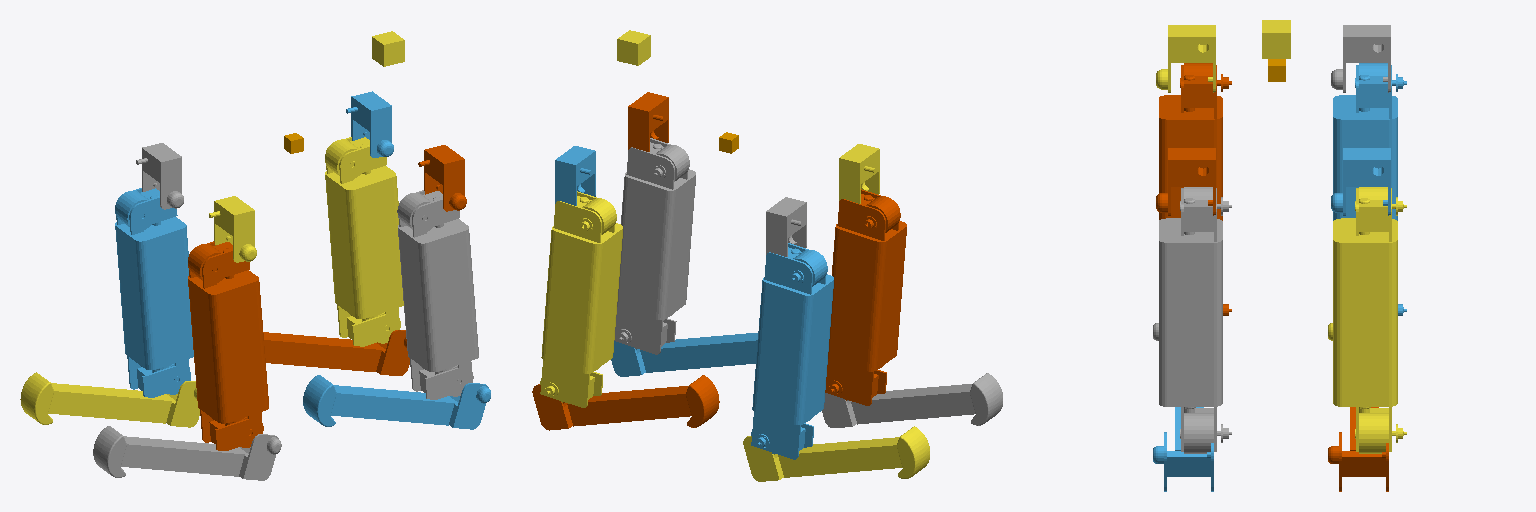
--- Render facts (derived) ---
3 views of the same robot in one strip: view 1: azimuth 30°, elevation 25°; view 2: azimuth 150°, elevation 25°; view 3: azimuth 270°, elevation 25° (orthographic).
Model aida with 33 links and 32 joints (20 revolute, 12 fixed), rooted at base_link, posed joints at zero except 4 at the middle of their limits (left_front_calf_hinge = 1.88, left_rear_calf_hinge = 1.88, right_front_calf_hinge = 1.88, right_rear_calf_hinge = 1.88).
Visible links, largest first — view 1: right_rear_thigh, right_front_thigh, left_rear_thigh, left_front_thigh, right_rear_calf, right_front_calf, left_rear_calf, left_front_calf, right_front_shoulder, right_rear_shoulder, left_front_shoulder, left_rear_shoulder (+1 smaller); view 2: left_rear_thigh, left_front_thigh, right_front_thigh, right_rear_thigh, left_rear_calf, left_front_calf, right_rear_calf, right_front_calf, left_front_shoulder, left_rear_shoulder, right_front_shoulder, right_rear_shoulder (+1 smaller); view 3: left_front_thigh, right_front_thigh, left_rear_thigh, right_rear_thigh, left_front_shoulder, right_front_shoulder, left_rear_shoulder, right_rear_shoulder, left_front_calf, right_front_calf, base_laser.
Link boxes in pixels (x1,y1,x2,y2): right_rear_thigh: (188, 241, 268, 450); right_front_thigh: (397, 190, 478, 399); left_rear_thigh: (115, 188, 193, 397); left_front_thigh: (325, 137, 403, 346); right_rear_calf: (93, 426, 281, 480); right_front_calf: (303, 375, 490, 429); left_rear_calf: (20, 372, 199, 427); left_front_calf: (263, 330, 409, 375); right_front_shoulder: (418, 145, 466, 211); right_rear_shoulder: (209, 196, 256, 262); left_front_shoulder: (346, 91, 393, 157); left_rear_shoulder: (136, 143, 183, 209); left_rear_thigh: (751, 243, 833, 459); left_front_thigh: (540, 191, 622, 407); right_front_thigh: (614, 138, 695, 354); right_rear_thigh: (825, 189, 906, 405); left_rear_calf: (743, 426, 929, 481); left_front_calf: (532, 375, 719, 430); right_rear_calf: (822, 373, 1002, 427); right_front_calf: (611, 333, 757, 376); left_front_shoulder: (555, 146, 595, 205); left_rear_shoulder: (766, 197, 806, 256); right_front_shoulder: (628, 92, 668, 151); right_rear_shoulder: (839, 144, 879, 203); left_front_thigh: (1333, 187, 1406, 453); right_front_thigh: (1159, 187, 1231, 453); left_rear_thigh: (1333, 63, 1406, 315); right_rear_thigh: (1159, 63, 1231, 315); left_front_shoulder: (1331, 148, 1390, 215); right_front_shoulder: (1156, 148, 1215, 215); left_rear_shoulder: (1331, 25, 1390, 92); right_rear_shoulder: (1156, 25, 1215, 92); left_front_calf: (1328, 407, 1388, 491); right_front_calf: (1153, 407, 1213, 491); base_laser: (1262, 20, 1290, 58).
Bounding box of the posed robot: 0.9024 × 0.437 × 0.8348 m (x, y, z).
12 mesh visuals loaded from 4 distinct referenced files (3 binary STL); not drawn: 1 (reference not matched to a file when rendering).

The robot description file, URDF, robot "aida":
<?xml version="1.0" ?>
<!-- =================================================================================== -->
<!-- |    This document was autogenerated by xacro from robots/aida.urdf.xacro         | -->
<!-- |    EDITING THIS FILE BY HAND IS NOT RECOMMENDED                                 | -->
<!-- =================================================================================== -->
<robot name="aida" xmlns:xacro="http://www.ros.org/wiki/xacro">
  <gazebo reference="left_rear_calf">
    <material>Gazebo/Orange</material>
  </gazebo>
  <gazebo reference="right_rear_calf">
    <material>Gazebo/Orange</material>
  </gazebo>
  <gazebo reference="left_front_calf">
    <material>Gazebo/Orange</material>
  </gazebo>
  <gazebo reference="right_front_calf">
    <material>Gazebo/Orange</material>
  </gazebo>
  <gazebo reference="left_rear_shoulder">
    <material>Gazebo/Orange</material>
  </gazebo>
  <gazebo reference="right_rear_shoulder">
    <material>Gazebo/Orange</material>
  </gazebo>
  <gazebo reference="left_front_shoulder">
    <material>Gazebo/Orange</material>
  </gazebo>
  <gazebo reference="right_front_shoulder">
    <material>Gazebo/Orange</material>
  </gazebo>
  <gazebo reference="head">
    <material>Gazebo/Red</material>
  </gazebo>
  <gazebo>
    <plugin filename="libgazebo_ros_control.so" name="gazebo_ros_control">
      <robotNamespace>/aida</robotNamespace>
    </plugin>
  </gazebo>
  <!-- Sensor defintion ( TODO move to own file) -->
  <gazebo reference="right_rear_calf">
    <sensor name="right_rear_bumper" type="contact">
      <always_on>true</always_on>
      <update_rate>20.0</update_rate>
      <contact>
        <!-- weird gazebo naming convention  -->
        <collision>right_rear_calf_fixed_joint_lump__right_rear_foot_collision_1</collision>
      </contact>
      <plugin filename="libgazebo_ros_bumper.so" name="right_rear_foot_bumper_controller">
        <alwaysOn>true</alwaysOn>
        <updateRate>20.0</updateRate>
        <bumperTopicName>aida/bumper_right_rear_foot</bumperTopicName>
        <frameName>right_rear_foot</frameName>
      </plugin>
    </sensor>
  </gazebo>
  <gazebo reference="right_front_calf">
    <sensor name="right_front_bumper" type="contact">
      <always_on>true</always_on>
      <update_rate>20.0</update_rate>
      <contact>
        <!-- weird gazebo naming convention  -->
        <collision>right_front_calf_fixed_joint_lump__right_front_foot_collision_1</collision>
      </contact>
      <plugin filename="libgazebo_ros_bumper.so" name="right_front_foot_bumper_controller">
        <alwaysOn>true</alwaysOn>
        <updateRate>20.0</updateRate>
        <bumperTopicName>aida/bumper_right_front_foot</bumperTopicName>
        <frameName>right_front_foot</frameName>
      </plugin>
    </sensor>
  </gazebo>
  <gazebo reference="left_rear_calf">
    <sensor name="left_rear_bumper" type="contact">
      <always_on>true</always_on>
      <update_rate>20.0</update_rate>
      <contact>
        <!-- weird gazebo naming convention  -->
        <collision>left_rear_calf_fixed_joint_lump__left_rear_foot_collision_1</collision>
      </contact>
      <plugin filename="libgazebo_ros_bumper.so" name="left_rear_foot_bumper_controller">
        <alwaysOn>true</alwaysOn>
        <updateRate>20.0</updateRate>
        <bumperTopicName>aida/bumper_left_rear_foot</bumperTopicName>
        <frameName>left_rear_foot</frameName>
      </plugin>
    </sensor>
  </gazebo>
  <gazebo reference="left_front_calf">
    <sensor name="left_front_bumper" type="contact">
      <always_on>true</always_on>
      <update_rate>20.0</update_rate>
      <contact>
        <!-- weird gazebo naming convention  -->
        <collision>left_front_calf_fixed_joint_lump__left_front_foot_collision_1</collision>
      </contact>
      <plugin filename="libgazebo_ros_bumper.so" name="left_front_foot_bumper_controller">
        <alwaysOn>true</alwaysOn>
        <updateRate>20.0</updateRate>
        <bumperTopicName>aida/bumper_left_front_foot</bumperTopicName>
        <frameName>left_front_foot</frameName>
      </plugin>
    </sensor>
  </gazebo>
  <gazebo reference="right_rear_foot">
    <!-- kp and kd for rubber -->
    <kp>1000000.0</kp>
    <kd>100.0</kd>
    <mu1>1.5</mu1>
    <mu2>1.5</mu2>
    <fdir1>1 0 0</fdir1>
    <maxVel>1.0</maxVel>
    <minDepth>0.00</minDepth>
  </gazebo>
  <gazebo reference="right_front_foot">
    <!-- kp and kd for rubber -->
    <kp>1000000.0</kp>
    <kd>100.0</kd>
    <mu1>1.5</mu1>
    <mu2>1.5</mu2>
    <fdir1>1 0 0</fdir1>
    <maxVel>1.0</maxVel>
    <minDepth>0.00</minDepth>
  </gazebo>
  <gazebo reference="left_rear_foot">
    <!-- kp and kd for rubber -->
    <kp>1000000.0</kp>
    <kd>100.0</kd>
    <mu1>1.5</mu1>
    <mu2>1.5</mu2>
    <fdir1>1 0 0</fdir1>
    <maxVel>1.0</maxVel>
    <minDepth>0.00</minDepth>
  </gazebo>
  <gazebo reference="left_front_foot">
    <!-- kp and kd for rubber -->
    <kp>1000000.0</kp>
    <kd>100.0</kd>
    <mu1>1.5</mu1>
    <mu2>1.5</mu2>
    <fdir1>1 0 0</fdir1>
    <maxVel>1.0</maxVel>
    <minDepth>0.00</minDepth>
  </gazebo>
  <!--test_hinge lr="left" fr="front"/>
 <xacro:macro name="test_hinge" params="lr fr">
	<gazebo reference="aida">
        <plugin name="encoder_plugin" filename="libencoder_sensor_plugin.so"/>
    </gazebo>

 </xacro:macro>
-->
  <!-- Distance between legs left and right-->
  <!--Leg -->
  <!-- mass of the chassis -->
  <!-- mass of the shoulder  -->
  <!-- -->
  <!-- mass of the calf-->
  <!-- mass of the foot-->
  <!-- TODO add angles limits -->
  <!-- avoid collisions using a buffer, disregard once proper design. -->
  <link name="chassis">
    <collision>
      <origin rpy="0 0 0" xyz="0 0 0"/>
      <geometry>
        <box size="0.6 0.2 0.2"/>
      </geometry>
    </collision>
    <visual>
      <origin rpy="0 0 0" xyz="0 0 0"/>
      <geometry>
        <mesh filename="meshes/walking_base_v0/chassis.stl"/>
      </geometry>
    </visual>
    <inertial>
      <origin rpy="0 0 0" xyz="0 0 0"/>
      <mass value="10"/>
      <inertia ixx="0.0666666666667" ixy="0" ixz="0" iyy="0.333333333333" iyz="0" izz="0.333333333333"/>
    </inertial>
  </link>
  <!-- create the shoulder -->
  <!-- link name="${lr}_${fr}_shoulder_spring"> 
    <inertial> <origin xyz="0 0 0" rpy="0 0 0"/> <mass value="1"/> <inertia ixx="1.0" ixy="0.0" ixz="0.0" iyy="1.0" iyz="0.0" izz="1.0"/> </inertial>
    </link-->
  <link name="left_front_shoulder">
    <collision>
      <origin rpy="0 0 0" xyz="0 0 0"/>
      <geometry>
        <box size="0.1 0.1 0.1"/>
      </geometry>
    </collision>
    <visual>
      <origin rpy="0 1.570795 0" xyz="0 0 0"/>
      <geometry>
        <mesh filename="meshes/walking_base_v0/shoulder.stl">
                </mesh>
      </geometry>
      <material name="orange"/>
    </visual>
    <inertial>
      <origin rpy="0 0 0" xyz="0 0 0"/>
      <mass value="0.5"/>
      <inertia ixx="0.000833333333333" ixy="0" ixz="0" iyy="0.000833333333333" iyz="0" izz="0.000833333333333"/>
    </inertial>
  </link>
  <!-- create the thigh -->
  <link name="left_front_thigh_spring">
    <!-- elastic joint -->
    <inertial>
      <origin rpy="0 0 0" xyz="0 0 0"/>
      <mass value="1"/>
      <inertia ixx="1.0" ixy="0.0" ixz="0.0" iyy="1.0" iyz="0.0" izz="1.0"/>
    </inertial>
  </link>
  <link name="left_front_thigh">
    <collision>
      <origin rpy="0 1.570795 0" xyz="0.2 0 0"/>
      <geometry>
        <cylinder length="0.4" radius="0.04"/>
      </geometry>
    </collision>
    <visual>
      <origin rpy="0 1.570795 0" xyz="0 0 0"/>
      <geometry>
        <mesh filename="meshes/walking_base_v0/upper_leg.stl">
                </mesh>
      </geometry>
      <material name="orange"/>
    </visual>
    <inertial>
      <origin rpy="0 1.570795 0" xyz="0.2 0 0"/>
      <mass value="1.5"/>
      <inertia ixx="0.0206" ixy="0" ixz="0" iyy="0.0206" iyz="0" izz="0.0012"/>
    </inertial>
  </link>
  <!-- create the calf -->
  <link name="left_front_calf_spring">
    <inertial>
      <origin rpy="0 0 0" xyz="0 0 0"/>
      <mass value="1"/>
      <inertia ixx="1.0" ixy="0.0" ixz="0.0" iyy="1.0" iyz="0.0" izz="1.0"/>
    </inertial>
  </link>
  <link name="left_front_calf">
    <collision>
      <origin rpy="0 1.570795 0" xyz="0.15 0 0"/>
      <geometry>
        <cylinder length="0.3" radius="0.02"/>
      </geometry>
    </collision>
    <visual>
      <origin rpy="0 1.570795 0" xyz="0.15 0 0"/>
      <geometry>
        <mesh filename="meshes/walking_base_v0/lower_leg.stl">
                </mesh>
      </geometry>
    </visual>
    <inertial>
      <origin rpy="0 1.570795 0" xyz="0.15 0 0"/>
      <mass value="0.2"/>
      <inertia ixx="0.00152" ixy="0" ixz="0" iyy="0.00152" iyz="0" izz="4e-05"/>
    </inertial>
  </link>
  <!-- create the foot -->
  <link name="left_front_foot">
    <collision>
      <origin rpy="0 0 0" xyz="0 0 0"/>
      <geometry>
        <sphere radius="0.05"/>
      </geometry>
      <surface>
        <friction>
          <ode>
            <mu>1</mu>
            <mu2>1</mu2>
            <slip1>1.0</slip1>
            <slip2>1.0</slip2>
          </ode>
        </friction>
      </surface>
    </collision>
    <inertial>
      <origin rpy="0 0 0" xyz="0 0 0"/>
      <mass value="0.1"/>
      <inertia ixx="0.0001" ixy="0" ixz="0" iyy="0.0001" iyz="0" izz="0.0001"/>
    </inertial>
  </link>
  <!-- hinges -->
  <!-- A3 -->
  <!--joint name="${lr}_${fr}_elastic_joint_shoulder" type="revolute">
        <parent link="${lr}_${fr}_shoulder_spring"/>
        <child link="${lr}_${fr}_shoulder"/>
        <axis xyz="1 0 0" rpy="0 0 0">
        <dynamics>
            <spring_stiffness>1000.0</spring_stiffness>
            <spring_reference>0</spring_reference>
        </dynamics>
        </axis>
        <limit effort="1000" velocity="100" upper="${A1_upper_rad}" lower="${A1_lower_rad}"/> 
    </joint-->
  <joint name="left_front_shoulder_hinge" type="revolute">
    <parent link="chassis"/>
    <child link="left_front_shoulder"/>
    <origin rpy="0 0 0" xyz="0.25 0.15 0"/>
    <axis rpy="0 0 0" xyz="1 0 0"/>
    <limit effort="1000" lower="-0.174532777778" upper="0.7853975" velocity="100"/>
    <joint_properties damping="0.0" friction="0.0"/>
  </joint>
  <transmission name="left_front_shoulder_trans">
    <type>transmission_interface/SimpleTransmission</type>
    <joint name="left_front_shoulder_hinge">
      <hardwareInterface>hardware_interface/EffortJointInterface</hardwareInterface>
    </joint>
    <actuator name="left_front_shoulder_motor">
      <hardwareInterface>hardware_interface/EffortJointInterface</hardwareInterface>
      <mechanicalReduction>100</mechanicalReduction>
    </actuator>
  </transmission>
  <!-- A2 -->
  <joint name="left_front_thigh_hinge" type="revolute">
    <parent link="left_front_shoulder"/>
    <child link="left_front_thigh_spring"/>
    <origin rpy="0 1.570795 0" xyz="0 0 -0.05 "/>
    <axis rpy="0 0 0" xyz="0 1 0"/>
    <limit effort="1000" lower="-0.7853975" upper="0.7853975" velocity="100"/>
    <joint_properties damping="0.0" friction="0.0"/>
  </joint>
  <joint name="left_front_elastic_joint_thigh" type="revolute">
    <parent link="left_front_thigh_spring"/>
    <child link="left_front_thigh"/>
    <axis rpy="0 0 0" xyz="0 0 1">
      <dynamics>
        <spring_stiffness>10.0</spring_stiffness>
        <spring_reference>0</spring_reference>
      </dynamics>
    </axis>
    <limit effort="1000" lower="-0.0349065555556" upper="0.0349065555556" velocity="100"/>
  </joint>
  <transmission name="left_front_thigh_trans">
    <type>transmission_interface/SimpleTransmission</type>
    <joint name="left_front_thigh_hinge">
      <hardwareInterface>hardware_interface/EffortJointInterface</hardwareInterface>
    </joint>
    <actuator name="left_front_thigh_motor">
      <hardwareInterface>hardware_interface/EffortJointInterface</hardwareInterface>
      <mechanicalReduction>100</mechanicalReduction>
    </actuator>
  </transmission>
  <!-- A1 -->
  <joint name="left_front_calf_hinge" type="revolute">
    <parent link="left_front_thigh"/>
    <child link="left_front_calf_spring"/>
    <origin rpy="0 0 0" xyz="0.4 0 0"/>
    <axis rpy="0 0 0" xyz="0 1 0"/>
    <limit effort="1000" lower="0.7853975" upper="2.96705722222" velocity="100"/>
    <joint_properties damping="0.0" friction="0.0"/>
  </joint>
  <joint name="left_front_elastic_joint_calf" type="revolute">
    <parent link="left_front_calf_spring"/>
    <child link="left_front_calf"/>
    <axis rpy="0 0 0" xyz="0 0 1">
      <dynamics>
        <spring_stiffness>10.0</spring_stiffness>
        <spring_reference>0</spring_reference>
      </dynamics>
    </axis>
    <limit effort="1000" lower="-0.0349065555556" upper="0.0349065555556" velocity="100"/>
  </joint>
  <transmission name="left_front_calf_trans">
    <type>transmission_interface/SimpleTransmission</type>
    <joint name="left_front_calf_hinge">
      <hardwareInterface>hardware_interface/EffortJointInterface</hardwareInterface>
    </joint>
    <actuator name="left_front_calf_motor">
      <hardwareInterface>hardware_interface/EffortJointInterface</hardwareInterface>
      <mechanicalReduction>100</mechanicalReduction>
    </actuator>
  </transmission>
  <joint name="left_front_foot_hinge" type="fixed">
    <parent link="left_front_calf"/>
    <child link="left_front_foot"/>
    <origin rpy="0 0 0" xyz="0.3 0 0"/>
  </joint>
  <!-- close bracket -->
  <!-- create the shoulder -->
  <!-- link name="${lr}_${fr}_shoulder_spring"> 
    <inertial> <origin xyz="0 0 0" rpy="0 0 0"/> <mass value="1"/> <inertia ixx="1.0" ixy="0.0" ixz="0.0" iyy="1.0" iyz="0.0" izz="1.0"/> </inertial>
    </link-->
  <link name="left_rear_shoulder">
    <collision>
      <origin rpy="0 0 0" xyz="0 0 0"/>
      <geometry>
        <box size="0.1 0.1 0.1"/>
      </geometry>
    </collision>
    <visual>
      <origin rpy="0 1.570795 0" xyz="0 0 0"/>
      <geometry>
        <mesh filename="meshes/walking_base_v0/shoulder.stl">
                </mesh>
      </geometry>
      <material name="orange"/>
    </visual>
    <inertial>
      <origin rpy="0 0 0" xyz="0 0 0"/>
      <mass value="0.5"/>
      <inertia ixx="0.000833333333333" ixy="0" ixz="0" iyy="0.000833333333333" iyz="0" izz="0.000833333333333"/>
    </inertial>
  </link>
  <!-- create the thigh -->
  <link name="left_rear_thigh_spring">
    <!-- elastic joint -->
    <inertial>
      <origin rpy="0 0 0" xyz="0 0 0"/>
      <mass value="1"/>
      <inertia ixx="1.0" ixy="0.0" ixz="0.0" iyy="1.0" iyz="0.0" izz="1.0"/>
    </inertial>
  </link>
  <link name="left_rear_thigh">
    <collision>
      <origin rpy="0 1.570795 0" xyz="0.2 0 0"/>
      <geometry>
        <cylinder length="0.4" radius="0.04"/>
      </geometry>
    </collision>
    <visual>
      <origin rpy="0 1.570795 0" xyz="0 0 0"/>
      <geometry>
        <mesh filename="meshes/walking_base_v0/upper_leg.stl">
                </mesh>
      </geometry>
      <material name="orange"/>
    </visual>
    <inertial>
      <origin rpy="0 1.570795 0" xyz="0.2 0 0"/>
      <mass value="1.5"/>
      <inertia ixx="0.0206" ixy="0" ixz="0" iyy="0.0206" iyz="0" izz="0.0012"/>
    </inertial>
  </link>
  <!-- create the calf -->
  <link name="left_rear_calf_spring">
    <inertial>
      <origin rpy="0 0 0" xyz="0 0 0"/>
      <mass value="1"/>
      <inertia ixx="1.0" ixy="0.0" ixz="0.0" iyy="1.0" iyz="0.0" izz="1.0"/>
    </inertial>
  </link>
  <link name="left_rear_calf">
    <collision>
      <origin rpy="0 1.570795 0" xyz="0.15 0 0"/>
      <geometry>
        <cylinder length="0.3" radius="0.02"/>
      </geometry>
    </collision>
    <visual>
      <origin rpy="0 1.570795 0" xyz="0.15 0 0"/>
      <geometry>
        <mesh filename="meshes/walking_base_v0/lower_leg.stl">
                </mesh>
      </geometry>
    </visual>
    <inertial>
      <origin rpy="0 1.570795 0" xyz="0.15 0 0"/>
      <mass value="0.2"/>
      <inertia ixx="0.00152" ixy="0" ixz="0" iyy="0.00152" iyz="0" izz="4e-05"/>
    </inertial>
  </link>
  <!-- create the foot -->
  <link name="left_rear_foot">
    <collision>
      <origin rpy="0 0 0" xyz="0 0 0"/>
      <geometry>
        <sphere radius="0.05"/>
      </geometry>
      <surface>
        <friction>
          <ode>
            <mu>1</mu>
            <mu2>1</mu2>
            <slip1>1.0</slip1>
            <slip2>1.0</slip2>
          </ode>
        </friction>
      </surface>
    </collision>
    <inertial>
      <origin rpy="0 0 0" xyz="0 0 0"/>
      <mass value="0.1"/>
      <inertia ixx="0.0001" ixy="0" ixz="0" iyy="0.0001" iyz="0" izz="0.0001"/>
    </inertial>
  </link>
  <!-- hinges -->
  <!-- A3 -->
  <!--joint name="${lr}_${fr}_elastic_joint_shoulder" type="revolute">
        <parent link="${lr}_${fr}_shoulder_spring"/>
        <child link="${lr}_${fr}_shoulder"/>
        <axis xyz="1 0 0" rpy="0 0 0">
        <dynamics>
            <spring_stiffness>1000.0</spring_stiffness>
            <spring_reference>0</spring_reference>
        </dynamics>
        </axis>
        <limit effort="1000" velocity="100" upper="${A1_upper_rad}" lower="${A1_lower_rad}"/> 
    </joint-->
  <joint name="left_rear_shoulder_hinge" type="revolute">
    <parent link="chassis"/>
    <child link="left_rear_shoulder"/>
    <origin rpy="0 0 0" xyz="-0.25 0.15 0"/>
    <axis rpy="0 0 0" xyz="1 0 0"/>
    <limit effort="1000" lower="-0.174532777778" upper="0.7853975" velocity="100"/>
    <joint_properties damping="0.0" friction="0.0"/>
  </joint>
  <transmission name="left_rear_shoulder_trans">
    <type>transmission_interface/SimpleTransmission</type>
    <joint name="left_rear_shoulder_hinge">
      <hardwareInterface>hardware_interface/EffortJointInterface</hardwareInterface>
    </joint>
    <actuator name="left_rear_shoulder_motor">
      <hardwareInterface>hardware_interface/EffortJointInterface</hardwareInterface>
      <mechanicalReduction>100</mechanicalReduction>
    </actuator>
  </transmission>
  <!-- A2 -->
  <joint name="left_rear_thigh_hinge" type="revolute">
    <parent link="left_rear_shoulder"/>
    <child link="left_rear_thigh_spring"/>
    <origin rpy="0 1.570795 0" xyz="0 0 -0.05 "/>
    <axis rpy="0 0 0" xyz="0 1 0"/>
    <limit effort="1000" lower="-0.7853975" upper="0.7853975" velocity="100"/>
    <joint_properties damping="0.0" friction="0.0"/>
  </joint>
  <joint name="left_rear_elastic_joint_thigh" type="revolute">
    <parent link="left_rear_thigh_spring"/>
    <child link="left_rear_thigh"/>
    <axis rpy="0 0 0" xyz="0 0 1">
      <dynamics>
        <spring_stiffness>10.0</spring_stiffness>
        <spring_reference>0</spring_reference>
      </dynamics>
    </axis>
    <limit effort="1000" lower="-0.0349065555556" upper="0.0349065555556" velocity="100"/>
  </joint>
  <transmission name="left_rear_thigh_trans">
    <type>transmission_interface/SimpleTransmission</type>
    <joint name="left_rear_thigh_hinge">
      <hardwareInterface>hardware_interface/EffortJointInterface</hardwareInterface>
    </joint>
    <actuator name="left_rear_thigh_motor">
      <hardwareInterface>hardware_interface/EffortJointInterface</hardwareInterface>
      <mechanicalReduction>100</mechanicalReduction>
    </actuator>
  </transmission>
  <!-- A1 -->
  <joint name="left_rear_calf_hinge" type="revolute">
    <parent link="left_rear_thigh"/>
    <child link="left_rear_calf_spring"/>
    <origin rpy="0 0 0" xyz="0.4 0 0"/>
    <axis rpy="0 0 0" xyz="0 1 0"/>
    <limit effort="1000" lower="0.7853975" upper="2.96705722222" velocity="100"/>
    <joint_properties damping="0.0" friction="0.0"/>
  </joint>
  <joint name="left_rear_elastic_joint_calf" type="revolute">
    <parent link="left_rear_calf_spring"/>
    <child link="left_rear_calf"/>
    <axis rpy="0 0 0" xyz="0 0 1">
      <dynamics>
        <spring_stiffness>10.0</spring_stiffness>
        <spring_reference>0</spring_reference>
      </dynamics>
    </axis>
    <limit effort="1000" lower="-0.0349065555556" upper="0.0349065555556" velocity="100"/>
  </joint>
  <transmission name="left_rear_calf_trans">
    <type>transmission_interface/SimpleTransmission</type>
    <joint name="left_rear_calf_hinge">
      <hardwareInterface>hardware_interface/EffortJointInterface</hardwareInterface>
    </joint>
    <actuator name="left_rear_calf_motor">
      <hardwareInterface>hardware_interface/EffortJointInterface</hardwareInterface>
      <mechanicalReduction>100</mechanicalReduction>
    </actuator>
  </transmission>
  <joint name="left_rear_foot_hinge" type="fixed">
    <parent link="left_rear_calf"/>
    <child link="left_rear_foot"/>
    <origin rpy="0 0 0" xyz="0.3 0 0"/>
  </joint>
  <!-- close bracket -->
  <!-- create the shoulder -->
  <!-- link name="${lr}_${fr}_shoulder_spring"> 
    <inertial> <origin xyz="0 0 0" rpy="0 0 0"/> <mass value="1"/> <inertia ixx="1.0" ixy="0.0" ixz="0.0" iyy="1.0" iyz="0.0" izz="1.0"/> </inertial>
    </link-->
  <link name="right_front_shoulder">
    <collision>
      <origin rpy="0 0 0" xyz="0 0 0"/>
      <geometry>
        <box size="0.1 0.1 0.1"/>
      </geometry>
    </collision>
    <visual>
      <origin rpy="0 1.570795 0" xyz="0 0 0"/>
      <geometry>
        <mesh filename="meshes/walking_base_v0/shoulder.stl">
                </mesh>
      </geometry>
      <material name="orange"/>
    </visual>
    <inertial>
      <origin rpy="0 0 0" xyz="0 0 0"/>
      <mass value="0.5"/>
      <inertia ixx="0.000833333333333" ixy="0" ixz="0" iyy="0.000833333333333" iyz="0" izz="0.000833333333333"/>
    </inertial>
  </link>
  <!-- create the thigh -->
  <link name="right_front_thigh_spring">
    <!-- elastic joint -->
    <inertial>
      <origin rpy="0 0 0" xyz="0 0 0"/>
      <mass value="1"/>
      <inertia ixx="1.0" ixy="0.0" ixz="0.0" iyy="1.0" iyz="0.0" izz="1.0"/>
    </inertial>
  </link>
  <link name="right_front_thigh">
    <collision>
      <origin rpy="0 1.570795 0" xyz="0.2 0 0"/>
      <geometry>
        <cylinder length="0.4" radius="0.04"/>
      </geometry>
    </collision>
    <visual>
      <origin rpy="0 1.570795 0" xyz="0 0 0"/>
      <geometry>
        <mesh filename="meshes/walking_base_v0/upper_leg.stl">
                </mesh>
      </geometry>
      <material name="orange"/>
    </visual>
    <inertial>
      <origin rpy="0 1.570795 0" xyz="0.2 0 0"/>
      <mass value="1.5"/>
      <inertia ixx="0.0206" ixy="0" ixz="0" iyy="0.0206" iyz="0" izz="0.0012"/>
    </inertial>
  </link>
  <!-- create the calf -->
  <link name="right_front_calf_spring">
    <inertial>
      <origin rpy="0 0 0" xyz="0 0 0"/>
      <mass value="1"/>
      <inertia ixx="1.0" ixy="0.0" ixz="0.0" iyy="1.0" iyz="0.0" izz="1.0"/>
    </inertial>
  </link>
  <link name="right_front_calf">
    <collision>
      <origin rpy="0 1.570795 0" xyz="0.15 0 0"/>
      <geometry>
        <cylinder length="0.3" radius="0.02"/>
      </geometry>
    </collision>
    <visual>
      <origin rpy="0 1.570795 0" xyz="0.15 0 0"/>
      <geometry>
        <mesh filename="meshes/walking_base_v0/lower_leg.stl">
                </mesh>
      </geometry>
    </visual>
    <inertial>
      <origin rpy="0 1.570795 0" xyz="0.15 0 0"/>
      <mass value="0.2"/>
      <inertia ixx="0.00152" ixy="0" ixz="0" iyy="0.00152" iyz="0" izz="4e-05"/>
    </inertial>
  </link>
  <!-- create the foot -->
  <link name="right_front_foot">
    <collision>
      <origin rpy="0 0 0" xyz="0 0 0"/>
      <geometry>
        <sphere radius="0.05"/>
      </geometry>
      <surface>
        <friction>
          <ode>
            <mu>1</mu>
            <mu2>1</mu2>
            <slip1>1.0</slip1>
            <slip2>1.0</slip2>
          </ode>
        </friction>
      </surface>
    </collision>
    <inertial>
      <origin rpy="0 0 0" xyz="0 0 0"/>
      <mass value="0.1"/>
      <inertia ixx="0.0001" ixy="0" ixz="0" iyy="0.0001" iyz="0" izz="0.0001"/>
    </inertial>
  </link>
  <!-- hinges -->
  <!-- A3 -->
  <!--joint name="${lr}_${fr}_elastic_joint_shoulder" type="revolute">
        <parent link="${lr}_${fr}_shoulder_spring"/>
        <child link="${lr}_${fr}_shoulder"/>
        <axis xyz="1 0 0" rpy="0 0 0">
        <dynamics>
            <spring_stiffness>1000.0</spring_stiffness>
            <spring_reference>0</spring_reference>
        </dynamics>
        </axis>
        <limit effort="1000" velocity="100" upper="${A1_upper_rad}" lower="${A1_lower_rad}"/> 
    </joint-->
  <joint name="right_front_shoulder_hinge" type="revolute">
    <parent link="chassis"/>
    <child link="right_front_shoulder"/>
    <origin rpy="0 0 0" xyz="0.25 -0.15 0"/>
    <axis rpy="0 0 0" xyz="1 0 0"/>
    <limit effort="1000" lower="-0.7853975" upper="0.174532777778" velocity="100"/>
    <joint_properties damping="0.0" friction="0.0"/>
  </joint>
  <transmission name="right_front_shoulder_trans">
    <type>transmission_interface/SimpleTransmission</type>
    <joint name="right_front_shoulder_hinge">
      <hardwareInterface>hardware_interface/EffortJointInterface</hardwareInterface>
    </joint>
    <actuator name="right_front_shoulder_motor">
      <hardwareInterface>hardware_interface/EffortJointInterface</hardwareInterface>
      <mechanicalReduction>100</mechanicalReduction>
    </actuator>
  </transmission>
  <!-- A2 -->
  <joint name="right_front_thigh_hinge" type="revolute">
    <parent link="right_front_shoulder"/>
    <child link="right_front_thigh_spring"/>
    <origin rpy="0 1.570795 0" xyz="0 0 -0.05 "/>
    <axis rpy="0 0 0" xyz="0 1 0"/>
    <limit effort="1000" lower="-0.7853975" upper="0.7853975" velocity="100"/>
    <joint_properties damping="0.0" friction="0.0"/>
  </joint>
  <joint name="right_front_elastic_joint_thigh" type="revolute">
    <parent link="right_front_thigh_spring"/>
    <child link="right_front_thigh"/>
    <axis rpy="0 0 0" xyz="0 0 1">
      <dynamics>
        <spring_stiffness>10.0</spring_stiffness>
        <spring_reference>0</spring_reference>
      </dynamics>
    </axis>
    <limit effort="1000" lower="-0.0349065555556" upper="0.0349065555556" velocity="100"/>
  </joint>
  <transmission name="right_front_thigh_trans">
    <type>transmission_interface/SimpleTransmission</type>
    <joint name="right_front_thigh_hinge">
      <hardwareInterface>hardware_interface/EffortJointInterface</hardwareInterface>
    </joint>
    <actuator name="right_front_thigh_motor">
      <hardwareInterface>hardware_interface/EffortJointInterface</hardwareInterface>
      <mechanicalReduction>100</mechanicalReduction>
    </actuator>
  </transmission>
  <!-- A1 -->
  <joint name="right_front_calf_hinge" type="revolute">
    <parent link="right_front_thigh"/>
    <child link="right_front_calf_spring"/>
    <origin rpy="0 0 0" xyz="0.4 0 0"/>
    <axis rpy="0 0 0" xyz="0 1 0"/>
    <limit effort="1000" lower="0.7853975" upper="2.96705722222" velocity="100"/>
    <joint_properties damping="0.0" friction="0.0"/>
  </joint>
  <joint name="right_front_elastic_joint_calf" type="revolute">
    <parent link="right_front_calf_spring"/>
    <child link="right_front_calf"/>
    <axis rpy="0 0 0" xyz="0 0 1">
      <dynamics>
        <spring_stiffness>10.0</spring_stiffness>
        <spring_reference>0</spring_reference>
      </dynamics>
    </axis>
    <limit effort="1000" lower="-0.0349065555556" upper="0.0349065555556" velocity="100"/>
  </joint>
  <transmission name="right_front_calf_trans">
    <type>transmission_interface/SimpleTransmission</type>
    <joint name="right_front_calf_hinge">
      <hardwareInterface>hardware_interface/EffortJointInterface</hardwareInterface>
    </joint>
    <actuator name="right_front_calf_motor">
      <hardwareInterface>hardware_interface/EffortJointInterface</hardwareInterface>
      <mechanicalReduction>100</mechanicalReduction>
    </actuator>
  </transmission>
  <joint name="right_front_foot_hinge" type="fixed">
    <parent link="right_front_calf"/>
    <child link="right_front_foot"/>
    <origin rpy="0 0 0" xyz="0.3 0 0"/>
  </joint>
  <!-- close bracket -->
  <!-- create the shoulder -->
  <!-- link name="${lr}_${fr}_shoulder_spring"> 
    <inertial> <origin xyz="0 0 0" rpy="0 0 0"/> <mass value="1"/> <inertia ixx="1.0" ixy="0.0" ixz="0.0" iyy="1.0" iyz="0.0" izz="1.0"/> </inertial>
    </link-->
  <link name="right_rear_shoulder">
    <collision>
      <origin rpy="0 0 0" xyz="0 0 0"/>
      <geometry>
        <box size="0.1 0.1 0.1"/>
      </geometry>
    </collision>
    <visual>
      <origin rpy="0 1.570795 0" xyz="0 0 0"/>
      <geometry>
        <mesh filename="meshes/walking_base_v0/shoulder.stl">
                </mesh>
      </geometry>
      <material name="orange"/>
    </visual>
    <inertial>
      <origin rpy="0 0 0" xyz="0 0 0"/>
      <mass value="0.5"/>
      <inertia ixx="0.000833333333333" ixy="0" ixz="0" iyy="0.000833333333333" iyz="0" izz="0.000833333333333"/>
    </inertial>
  </link>
  <!-- create the thigh -->
  <link name="right_rear_thigh_spring">
    <!-- elastic joint -->
    <inertial>
      <origin rpy="0 0 0" xyz="0 0 0"/>
      <mass value="1"/>
      <inertia ixx="1.0" ixy="0.0" ixz="0.0" iyy="1.0" iyz="0.0" izz="1.0"/>
    </inertial>
  </link>
  <link name="right_rear_thigh">
    <collision>
      <origin rpy="0 1.570795 0" xyz="0.2 0 0"/>
      <geometry>
        <cylinder length="0.4" radius="0.04"/>
      </geometry>
    </collision>
    <visual>
      <origin rpy="0 1.570795 0" xyz="0 0 0"/>
      <geometry>
        <mesh filename="meshes/walking_base_v0/upper_leg.stl">
                </mesh>
      </geometry>
      <material name="orange"/>
    </visual>
    <inertial>
      <origin rpy="0 1.570795 0" xyz="0.2 0 0"/>
      <mass value="1.5"/>
      <inertia ixx="0.0206" ixy="0" ixz="0" iyy="0.0206" iyz="0" izz="0.0012"/>
    </inertial>
  </link>
  <!-- create the calf -->
  <link name="right_rear_calf_spring">
    <inertial>
      <origin rpy="0 0 0" xyz="0 0 0"/>
      <mass value="1"/>
      <inertia ixx="1.0" ixy="0.0" ixz="0.0" iyy="1.0" iyz="0.0" izz="1.0"/>
    </inertial>
  </link>
  <link name="right_rear_calf">
    <collision>
      <origin rpy="0 1.570795 0" xyz="0.15 0 0"/>
      <geometry>
        <cylinder length="0.3" radius="0.02"/>
      </geometry>
    </collision>
    <visual>
      <origin rpy="0 1.570795 0" xyz="0.15 0 0"/>
      <geometry>
        <mesh filename="meshes/walking_base_v0/lower_leg.stl">
                </mesh>
      </geometry>
    </visual>
    <inertial>
      <origin rpy="0 1.570795 0" xyz="0.15 0 0"/>
      <mass value="0.2"/>
      <inertia ixx="0.00152" ixy="0" ixz="0" iyy="0.00152" iyz="0" izz="4e-05"/>
    </inertial>
  </link>
  <!-- create the foot -->
  <link name="right_rear_foot">
    <collision>
      <origin rpy="0 0 0" xyz="0 0 0"/>
      <geometry>
        <sphere radius="0.05"/>
      </geometry>
      <surface>
        <friction>
          <ode>
            <mu>1</mu>
            <mu2>1</mu2>
            <slip1>1.0</slip1>
            <slip2>1.0</slip2>
          </ode>
        </friction>
      </surface>
    </collision>
    <inertial>
      <origin rpy="0 0 0" xyz="0 0 0"/>
      <mass value="0.1"/>
      <inertia ixx="0.0001" ixy="0" ixz="0" iyy="0.0001" iyz="0" izz="0.0001"/>
    </inertial>
  </link>
  <!-- hinges -->
  <!-- A3 -->
  <!--joint name="${lr}_${fr}_elastic_joint_shoulder" type="revolute">
        <parent link="${lr}_${fr}_shoulder_spring"/>
        <child link="${lr}_${fr}_shoulder"/>
        <axis xyz="1 0 0" rpy="0 0 0">
        <dynamics>
            <spring_stiffness>1000.0</spring_stiffness>
            <spring_reference>0</spring_reference>
        </dynamics>
        </axis>
        <limit effort="1000" velocity="100" upper="${A1_upper_rad}" lower="${A1_lower_rad}"/> 
    </joint-->
  <joint name="right_rear_shoulder_hinge" type="revolute">
    <parent link="chassis"/>
    <child link="right_rear_shoulder"/>
    <origin rpy="0 0 0" xyz="-0.25 -0.15 0"/>
    <axis rpy="0 0 0" xyz="1 0 0"/>
    <limit effort="1000" lower="-0.7853975" upper="0.174532777778" velocity="100"/>
    <joint_properties damping="0.0" friction="0.0"/>
  </joint>
  <transmission name="right_rear_shoulder_trans">
    <type>transmission_interface/SimpleTransmission</type>
    <joint name="right_rear_shoulder_hinge">
      <hardwareInterface>hardware_interface/EffortJointInterface</hardwareInterface>
    </joint>
    <actuator name="right_rear_shoulder_motor">
      <hardwareInterface>hardware_interface/EffortJointInterface</hardwareInterface>
      <mechanicalReduction>100</mechanicalReduction>
    </actuator>
  </transmission>
  <!-- A2 -->
  <joint name="right_rear_thigh_hinge" type="revolute">
    <parent link="right_rear_shoulder"/>
    <child link="right_rear_thigh_spring"/>
    <origin rpy="0 1.570795 0" xyz="0 0 -0.05 "/>
    <axis rpy="0 0 0" xyz="0 1 0"/>
    <limit effort="1000" lower="-0.7853975" upper="0.7853975" velocity="100"/>
    <joint_properties damping="0.0" friction="0.0"/>
  </joint>
  <joint name="right_rear_elastic_joint_thigh" type="revolute">
    <parent link="right_rear_thigh_spring"/>
    <child link="right_rear_thigh"/>
    <axis rpy="0 0 0" xyz="0 0 1">
      <dynamics>
        <spring_stiffness>10.0</spring_stiffness>
        <spring_reference>0</spring_reference>
      </dynamics>
    </axis>
    <limit effort="1000" lower="-0.0349065555556" upper="0.0349065555556" velocity="100"/>
  </joint>
  <transmission name="right_rear_thigh_trans">
    <type>transmission_interface/SimpleTransmission</type>
    <joint name="right_rear_thigh_hinge">
      <hardwareInterface>hardware_interface/EffortJointInterface</hardwareInterface>
    </joint>
    <actuator name="right_rear_thigh_motor">
      <hardwareInterface>hardware_interface/EffortJointInterface</hardwareInterface>
      <mechanicalReduction>100</mechanicalReduction>
    </actuator>
  </transmission>
  <!-- A1 -->
  <joint name="right_rear_calf_hinge" type="revolute">
    <parent link="right_rear_thigh"/>
    <child link="right_rear_calf_spring"/>
    <origin rpy="0 0 0" xyz="0.4 0 0"/>
    <axis rpy="0 0 0" xyz="0 1 0"/>
    <limit effort="1000" lower="0.7853975" upper="2.96705722222" velocity="100"/>
    <joint_properties damping="0.0" friction="0.0"/>
  </joint>
  <joint name="right_rear_elastic_joint_calf" type="revolute">
    <parent link="right_rear_calf_spring"/>
    <child link="right_rear_calf"/>
    <axis rpy="0 0 0" xyz="0 0 1">
      <dynamics>
        <spring_stiffness>10.0</spring_stiffness>
        <spring_reference>0</spring_reference>
      </dynamics>
    </axis>
    <limit effort="1000" lower="-0.0349065555556" upper="0.0349065555556" velocity="100"/>
  </joint>
  <transmission name="right_rear_calf_trans">
    <type>transmission_interface/SimpleTransmission</type>
    <joint name="right_rear_calf_hinge">
      <hardwareInterface>hardware_interface/EffortJointInterface</hardwareInterface>
    </joint>
    <actuator name="right_rear_calf_motor">
      <hardwareInterface>hardware_interface/EffortJointInterface</hardwareInterface>
      <mechanicalReduction>100</mechanicalReduction>
    </actuator>
  </transmission>
  <joint name="right_rear_foot_hinge" type="fixed">
    <parent link="right_rear_calf"/>
    <child link="right_rear_foot"/>
    <origin rpy="0 0 0" xyz="0.3 0 0"/>
  </joint>
  <!-- close bracket -->
  <!-- camera -->
  <gazebo reference="asus_camera_link">
    <sensor name="camera" type="depth">
      <always_on>true</always_on>
      <update_rate>10.0</update_rate>
      <camera>
        <horizontal_fov>1.0471975512</horizontal_fov>
        <image>
          <format>R8G8B8</format>
          <width>640</width>
          <height>480</height>
        </image>
        <clip>
          <near>0.05</near>
          <far>8.0</far>
        </clip>
      </camera>
      <plugin filename="libgazebo_ros_openni_kinect.so" name="kinect_camera_controller">
        <cameraName>nav_module/asus_camera</cameraName>
        <alwaysOn>true</alwaysOn>
        <updateRate>10</updateRate>
        <imageTopicName>rgb/image_raw</imageTopicName>
        <depthImageTopicName>depth/image_raw</depthImageTopicName>
        <pointCloudTopicName>depth/points</pointCloudTopicName>
        <cameraInfoTopicName>rgb/camera_info</cameraInfoTopicName>
        <depthImageCameraInfoTopicName>depth/camera_info</depthImageCameraInfoTopicName>
        <frameName>asus_camera_link_optical</frameName>
        <baseline>0.1</baseline>
        <distortion_k1>0.0</distortion_k1>
        <distortion_k2>0.0</distortion_k2>
        <distortion_k3>0.0</distortion_k3>
        <distortion_t1>0.0</distortion_t1>
        <distortion_t2>0.0</distortion_t2>
        <pointCloudCutoff>0.4</pointCloudCutoff>
      </plugin>
    </sensor>
  </gazebo>
  <!-- name of square 'camera' box -->
  <!-- lidar -->
  <gazebo reference="base_laser">
    <material>Gazebo/Blue</material>
    <turnGravityOff>false</turnGravityOff>
    <sensor name="lidar2d_sensor" type="ray">
      <pose>0.025 0 0 0 0 0</pose>
      <visualize>false</visualize>
      <update_rate>40</update_rate>
      <ray>
        <scan>
          <horizontal>
            <samples>720</samples>
            <resolution>1</resolution>
            <min_angle>-1.570796</min_angle>
            <max_angle>1.570796</max_angle>
          </horizontal>
        </scan>
        <range>
          <min>0.10</min>
          <max>10.0</max>
          <resolution>0.001</resolution>
        </range>
      </ray>
      <plugin filename="libgazebo_ros_laser.so" name="lidar2d_controller">
        <topicName>nav_module/scan</topicName>
        <frameName>base_laser</frameName>
        <!-- needs to be base_laser for navigation stack -->
      </plugin>
    </sensor>
  </gazebo>
  <gazebo>
    <plugin filename="libgazebo_ros_imu.so" name="imu_plugin">
      <alwaysOn>true</alwaysOn>
      <bodyName>imu_link</bodyName>
      <topicName>aida/imu_data</topicName>
      <serviceName>imu_service</serviceName>
      <gaussianNoise>2.89e-08</gaussianNoise>
      <updateRate>10.0</updateRate>
    </plugin>
  </gazebo>
  <link name="base_link"/>
  <joint name="base_joint" type="fixed">
    <parent link="base_link"/>
    <child link="chassis"/>
  </joint>
  <!-- add the navigation module -->
  <!--fb : front, back ; lr: left, right -->
  <!-- params 
     x_rgbcamera : x dispalcement of the cameras to the back.
     y_rgvcamera : y displacement of the cameras on the sides ( 2 cameras )-->
  <!-- define here all the sensors and elements related to te head of the robot -->
  <link name="nav_module_link"/>
  <!-- SENSOR links -->
  <!-- lidar2d -->
  <link name="base_laser">
    <visual>
      <origin rpy="0 0 0" xyz="0 0 0"/>
      <geometry>
        <box size="0.05 0.05 0.05"/>
      </geometry>
      <material name="Blue"/>
    </visual>
  </link>
  <joint name="lidar2d_joint" type="fixed">
    <origin rpy="0 0 1.57079632679" xyz="0.125 0 0.0125"/>
    <parent link="nav_module_link"/>
    <child link="base_laser"/>
  </joint>
  <!-- Asus Camera -->
  <joint name="asus_camera_joint" type="fixed">
    <axis rpy="0 0 0" xyz="1 0 0."/>
    <origin rpy="0 0 0" xyz="0.125 0 0.075"/>
    <parent link="nav_module_link"/>
    <child link="asus_camera_link"/>
  </joint>
  <link name="asus_camera_link"/>
  <link name="asus_camera_link_optical"/>
  <joint name="asus_camera_optical_joint" type="fixed">
    <!-- these values have to be these values otherwise the gazebo camera
      image won't be aligned properly with the frame it is supposedly
      originating from -->
    <origin rpy="-1.57079632679 0 -1.57079632679" xyz="0 0 0"/>
    <parent link="asus_camera_link"/>
    <child link="asus_camera_link_optical"/>
  </joint>
  <!--fb : front, back ; lr: left, right -->
  <!-- camera -->
  <gazebo reference="rgb_cam_rl_link">
    <material>Gazebo/Blue</material>
    <sensor name="camera" type="camera">
      <update_rate>30.0</update_rate>
      <camera name="head">
        <horizontal_fov>1.3962634</horizontal_fov>
        <image>
          <width>800</width>
          <height>800</height>
          <format>R8G8B8</format>
        </image>
        <clip>
          <near>0.02</near>
          <far>300</far>
        </clip>
      </camera>
      <plugin filename="libgazebo_ros_camera.so" name="camera_controller">
        <alwaysOn>true</alwaysOn>
        <updateRate>0.0</updateRate>
        <cameraName>nav_module/rgb_cam_rl</cameraName>
        <imageTopicName>image_raw</imageTopicName>
        <cameraInfoTopicName>camera_info</cameraInfoTopicName>
        <frameName>camera_link</frameName>
        <hackBaseline>0.07</hackBaseline>
        <distortionK1>0.0</distortionK1>
        <distortionK2>0.0</distortionK2>
        <distortionK3>0.0</distortionK3>
        <distortionT1>0.0</distortionT1>
        <distortionT2>0.0</distortionT2>
      </plugin>
    </sensor>
  </gazebo>
  <!--fb : front, back ; lr: left, right -->
  <!-- camera -->
  <gazebo reference="rgb_cam_rr_link">
    <material>Gazebo/Blue</material>
    <sensor name="camera" type="camera">
      <update_rate>30.0</update_rate>
      <camera name="head">
        <horizontal_fov>1.3962634</horizontal_fov>
        <image>
          <width>800</width>
          <height>800</height>
          <format>R8G8B8</format>
        </image>
        <clip>
          <near>0.02</near>
          <far>300</far>
        </clip>
      </camera>
      <plugin filename="libgazebo_ros_camera.so" name="camera_controller">
        <alwaysOn>true</alwaysOn>
        <updateRate>0.0</updateRate>
        <cameraName>nav_module/rgb_cam_rr</cameraName>
        <imageTopicName>image_raw</imageTopicName>
        <cameraInfoTopicName>camera_info</cameraInfoTopicName>
        <frameName>camera_link</frameName>
        <hackBaseline>0.07</hackBaseline>
        <distortionK1>0.0</distortionK1>
        <distortionK2>0.0</distortionK2>
        <distortionK3>0.0</distortionK3>
        <distortionT1>0.0</distortionT1>
        <distortionT2>0.0</distortionT2>
      </plugin>
    </sensor>
  </gazebo>
  <link name="rgb_cam_rl_link"/>
  <link name="rgb_cam_rr_link"/>
  <joint name="rgb_cam_rl_joint" type="fixed">
    <origin rpy="0 0 2.35619449019" xyz="-0.15 0.1 0"/>
    <parent link="nav_module_link"/>
    <child link="rgb_cam_rl_link"/>
  </joint>
  <joint name="rgb_cam_rr_joint" type="fixed">
    <origin rpy="0 0 -2.35619449019" xyz="-0.15 -0.1 0"/>
    <parent link="nav_module_link"/>
    <child link="rgb_cam_rr_link"/>
  </joint>
  <link name="imu_link">
    <inertial>
      <mass value="0.01"/>
      <origin xyz="0 0 0"/>
      <inertia ixx="0.001" ixy="0.0" ixz="0.0" iyy="0.001" iyz="0.0" izz="0.001"/>
    </inertial>
    <visual>
      <origin rpy="0 0 0" xyz="0 0 0"/>
      <geometry>
        <box size="0.03 0.03 0.03"/>
      </geometry>
    </visual>
  </link>
  <joint name="imu_joint" type="fixed">
    <axis xyz="0 0 0"/>
    <origin rpy="0 0 0" xyz="0. 0. 0.1"/>
    <parent link="chassis"/>
    <child link="imu_link"/>
  </joint>
  <joint name="nav_module_joint" type="fixed">
    <parent link="base_link"/>
    <child link="nav_module_link"/>
    <origin rpy="0 0 0" xyz="0.1 0 0.25"/>
  </joint>
</robot>
